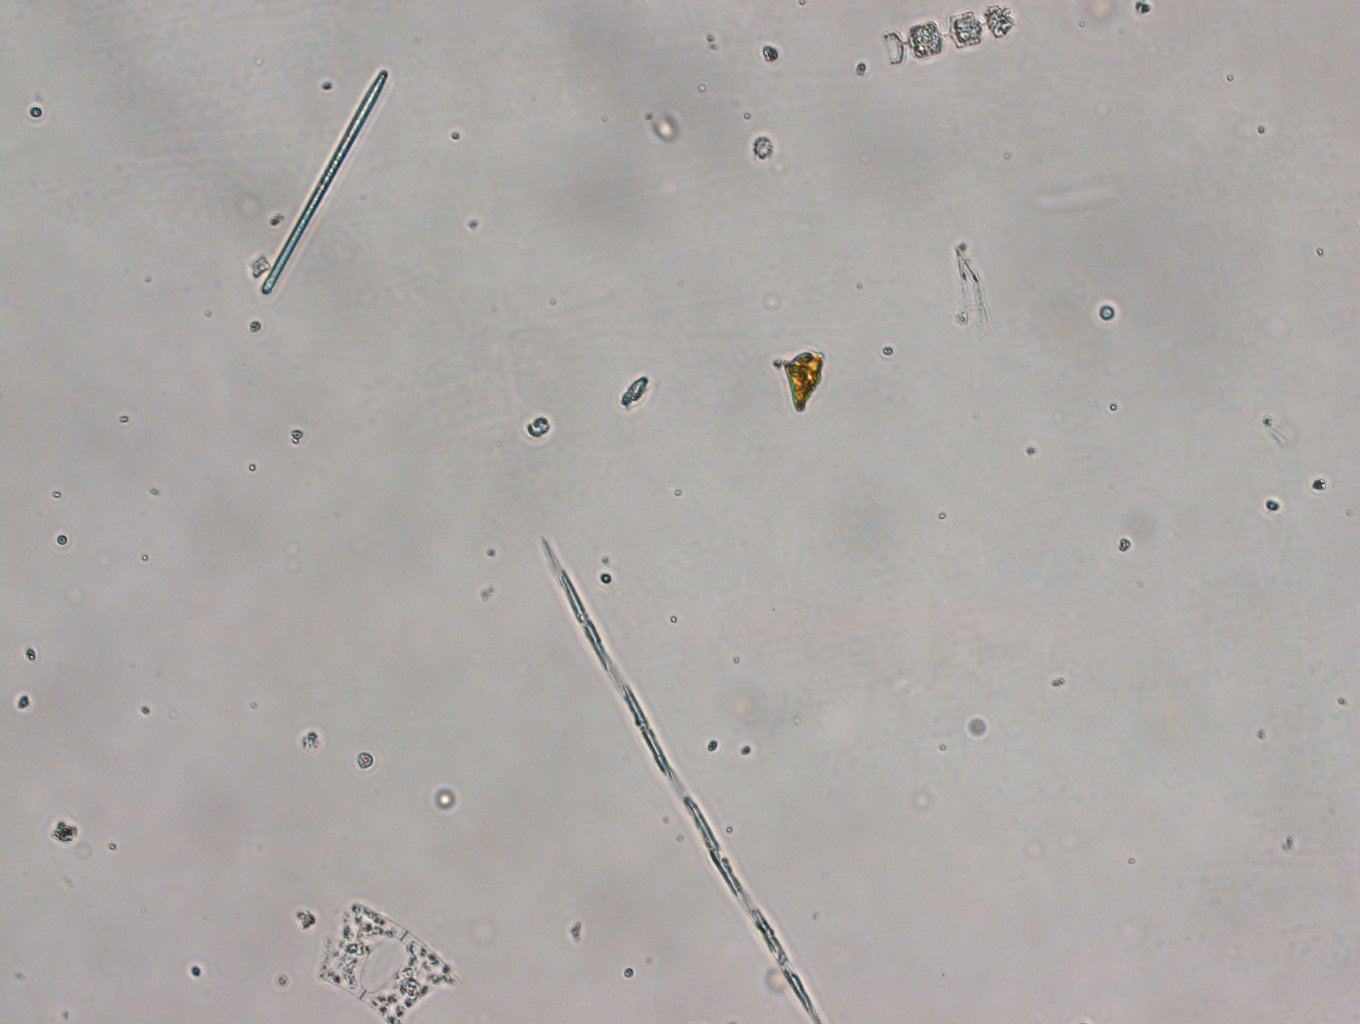chaetoceros: (883, 1, 1017, 66)
eucampia: (318, 901, 458, 1024)
